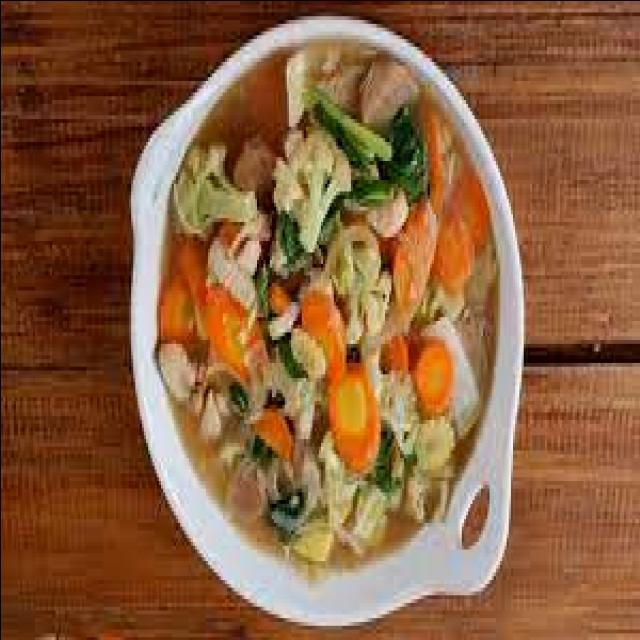capcay: (156, 46, 499, 560)
